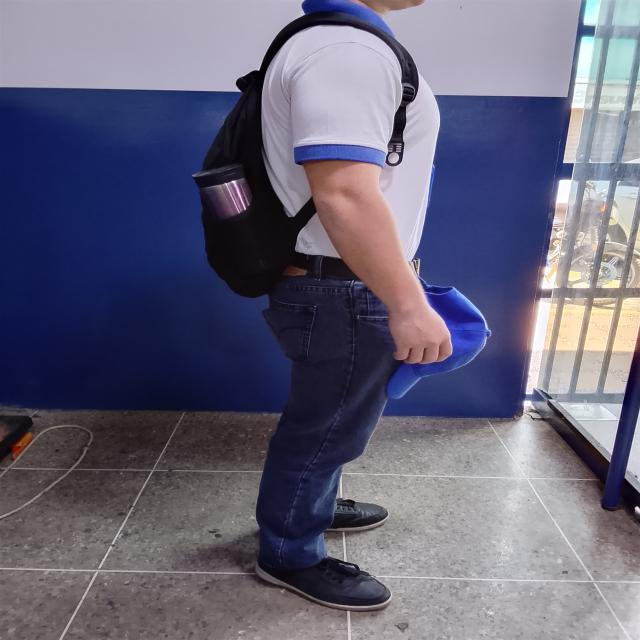pantalon_oscuro: (254, 274, 404, 572)
uniforme_superior: (260, 0, 441, 262)
